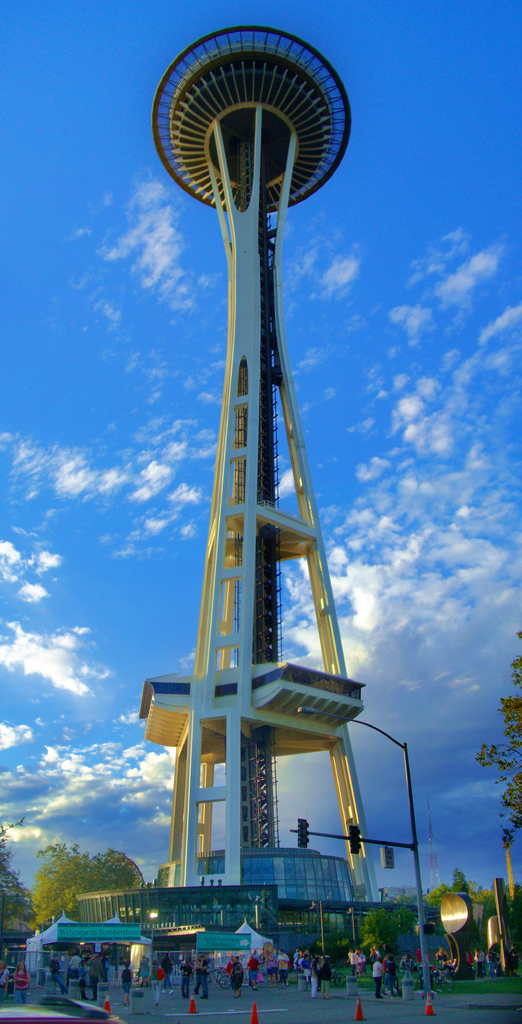Tree: (0, 629, 521, 966)
